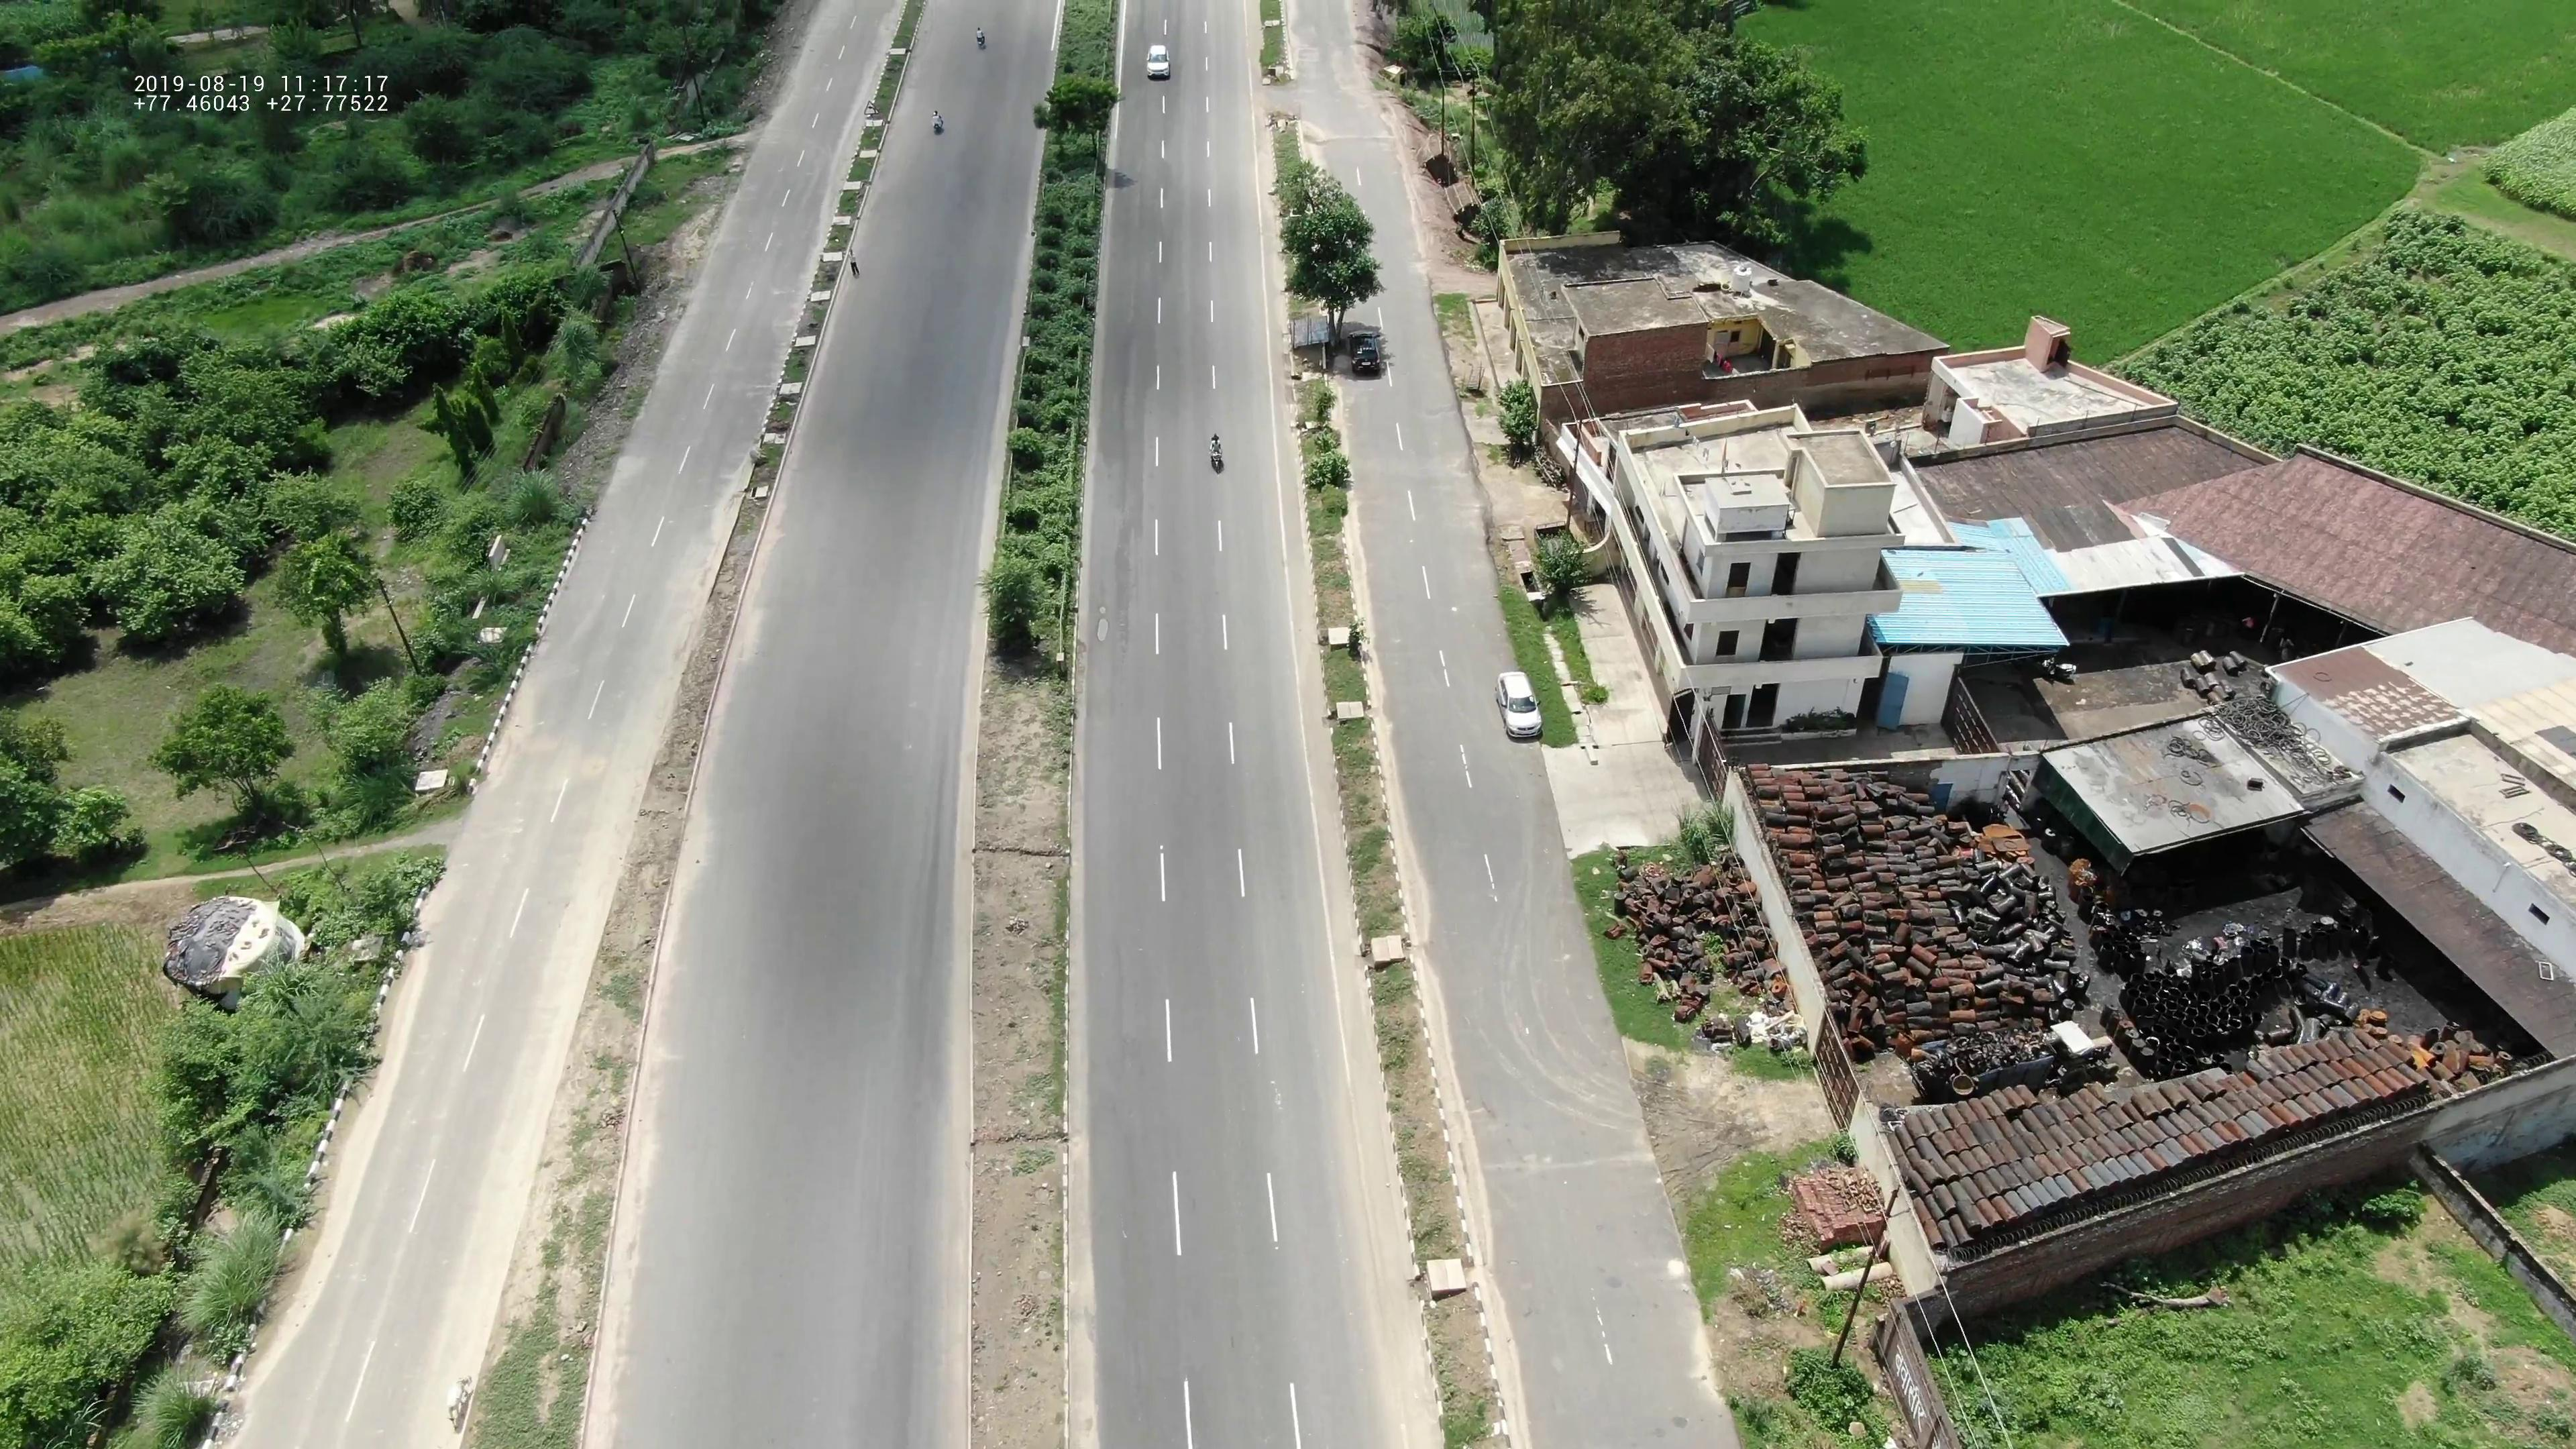Potholes: (1088, 586, 1127, 648)
